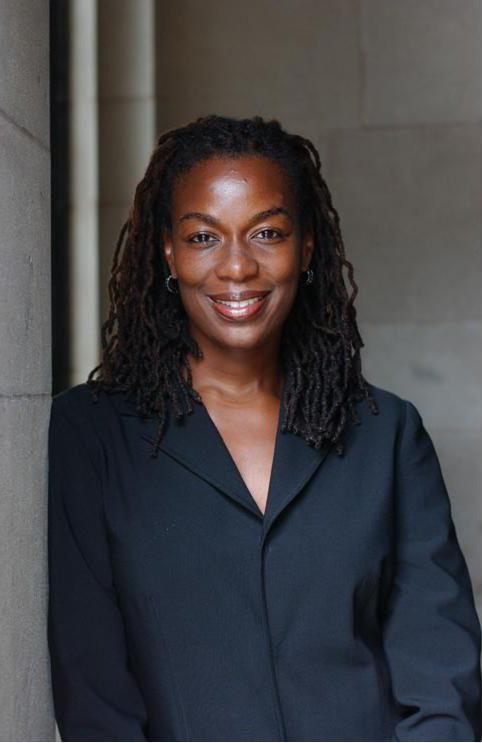Sober: (184, 165, 298, 334)
